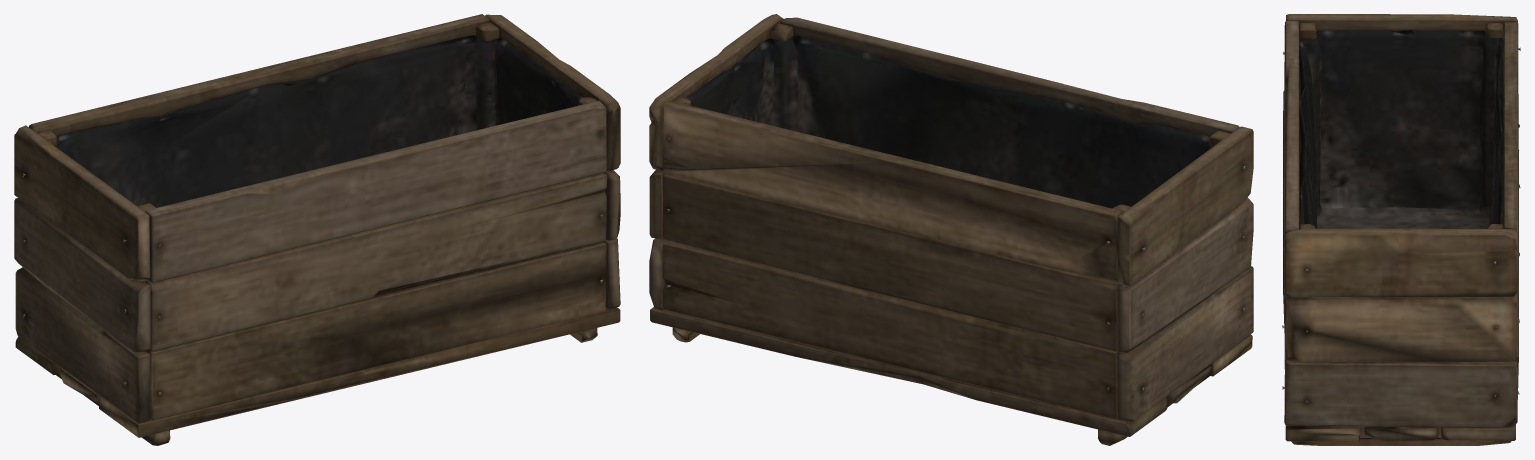
File: planter_box_01.glb
3 views of the same model, side by side, from view 1: azimuth 30°, elevation 25°; view 2: azimuth 150°, elevation 25°; view 3: azimuth 270°, elevation 25° (orthographic). The views are drawn at different scales.
Parts seen in each view (by area): view 1: planter_box_01; view 2: planter_box_01; view 3: planter_box_01.
Boxes of the visible parts, left/top/right/bottom form: planter_box_01: left=14, top=14, right=620, bottom=445; planter_box_01: left=649, top=14, right=1253, bottom=445; planter_box_01: left=1282, top=14, right=1520, bottom=445.
Size of the model in its own units: 0.9126 by 0.4249 by 0.4135.
Materials: 1 (1 with a texture image).
